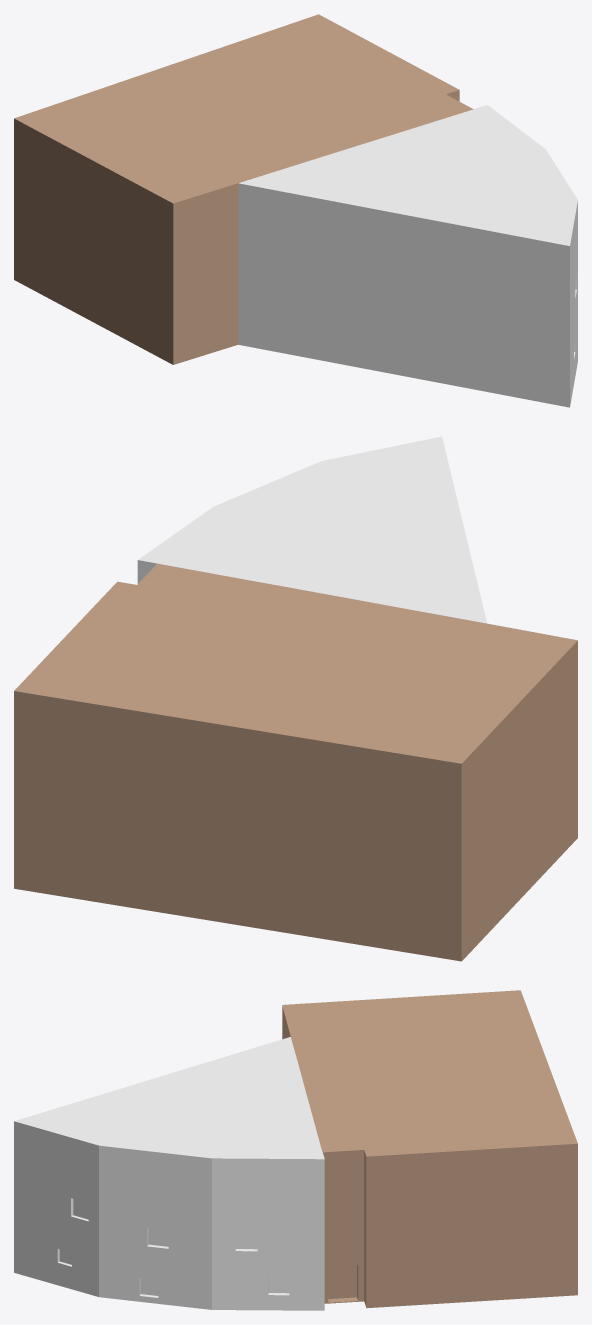
Rendered from maths_building_side.fbx.
3 renders of one model, top to bottom at view 1: azimuth 30°, elevation 25°; view 2: azimuth 150°, elevation 25°; view 3: azimuth 270°, elevation 25°, orthographic. The views are drawn at different scales.
Visible parts, largest first — view 1: polySurface21; view 2: polySurface21; view 3: polySurface21.
Part boxes in pixels (x1,y1,x2,y2): polySurface21: [14, 14, 577, 407]; polySurface21: [14, 436, 577, 961]; polySurface21: [14, 990, 577, 1310].
Bounding box in the file's own units: 44.92 × 18.78 × 63.35.
